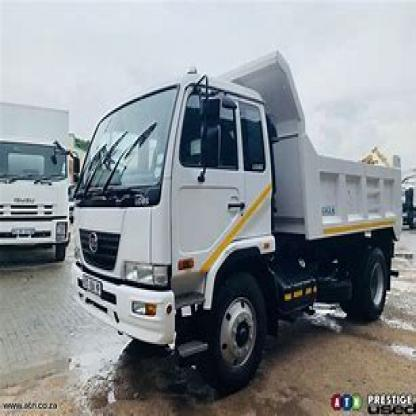dump_truck: (73, 32, 411, 398), (0, 90, 61, 261)
